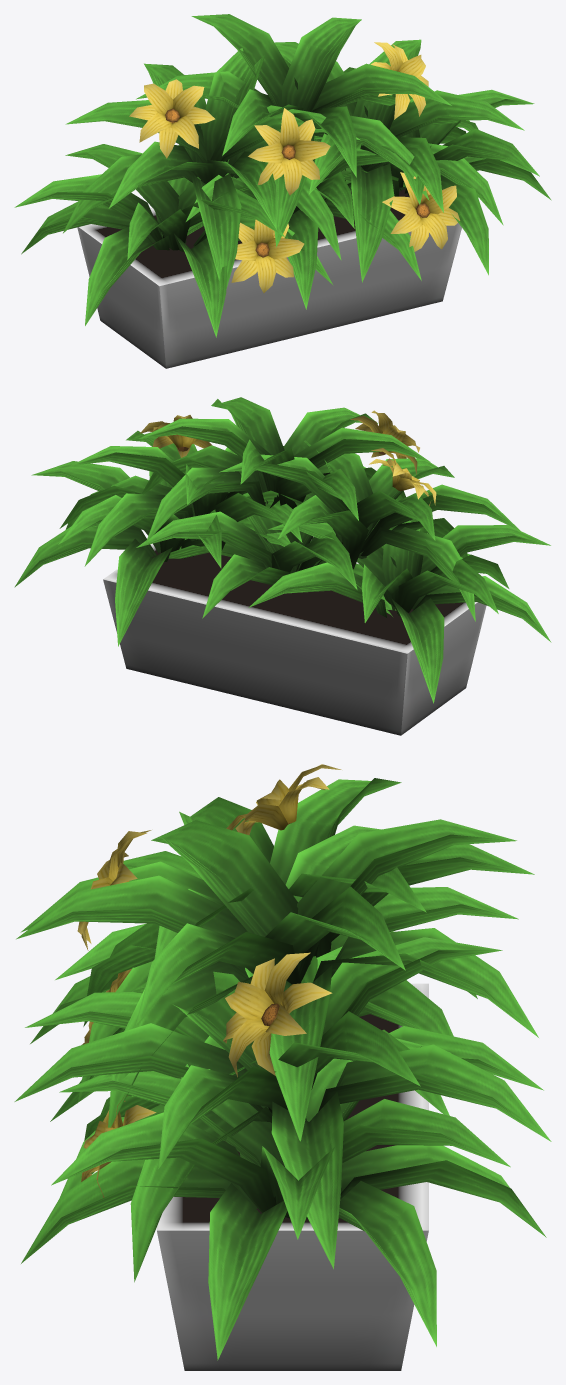
The model's file is TianZhuJiaoTang_01_hua_01.FBX.
3 renders of one model, top to bottom at view 1: azimuth 30°, elevation 25°; view 2: azimuth 150°, elevation 25°; view 3: azimuth 270°, elevation 25°, orthographic. The views are drawn at different scales.
Parts seen in each view (by area): view 1: TianZhuJiaoTang_01_hua_01; view 2: TianZhuJiaoTang_01_hua_01; view 3: TianZhuJiaoTang_01_hua_01.
Boxes of the visible parts, bbox=[...] form: TianZhuJiaoTang_01_hua_01: bbox=[14, 14, 551, 368]; TianZhuJiaoTang_01_hua_01: bbox=[14, 397, 551, 735]; TianZhuJiaoTang_01_hua_01: bbox=[14, 764, 551, 1370].
Bounding box in the file's own units: 414 × 208 × 236.
